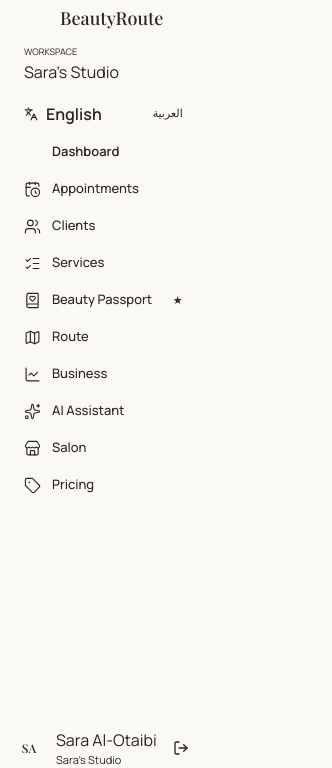
Test case: Sidebar › language toggle › shows an error and does not crash when the switch fails
Click the button "English العربية" at (103, 114), box top-left (12, 92), bottom-right (195, 134)
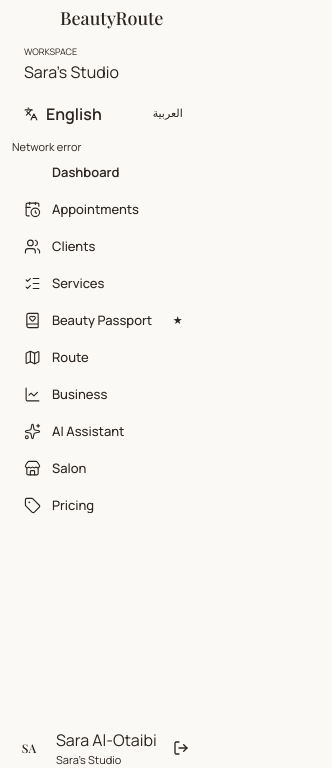
Expected: the text "Network error" is shown, top-left (12, 138), bottom-right (82, 154)
